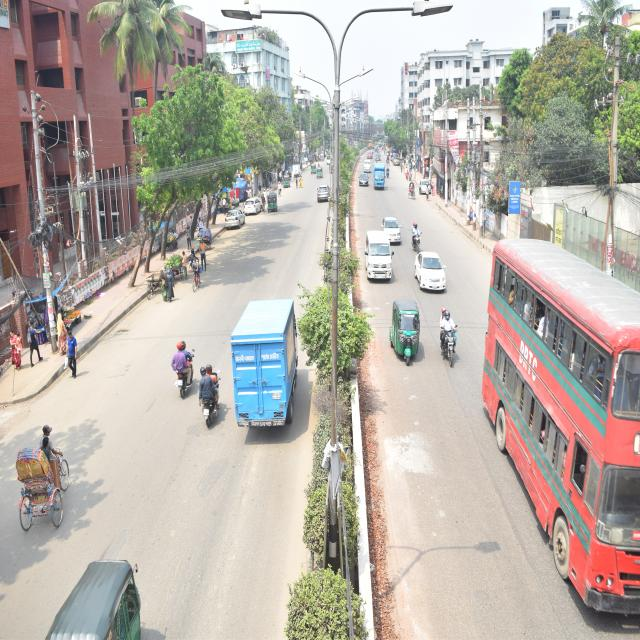car: (482, 232, 640, 621), (411, 247, 451, 296), (382, 214, 403, 244), (226, 207, 246, 232), (245, 194, 264, 218), (317, 182, 331, 204), (358, 170, 370, 188)
microbus: (364, 226, 394, 284)
motorbike: (199, 371, 222, 432), (170, 352, 196, 400), (438, 319, 460, 368), (411, 226, 422, 250)
pickup-van: (228, 288, 300, 431), (373, 160, 389, 195)
